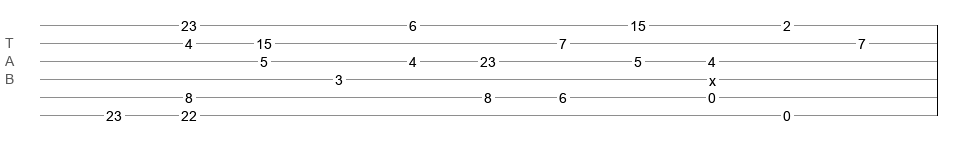0: (708, 90, 716, 100), (783, 108, 791, 118)
15: (256, 36, 272, 46), (630, 18, 646, 28)
2: (783, 18, 791, 28)
22: (181, 108, 197, 118)
23: (106, 108, 122, 118), (181, 18, 197, 28), (480, 54, 496, 64)
3: (335, 72, 343, 82)
4: (185, 36, 193, 46), (409, 54, 417, 64), (708, 54, 716, 64)
5: (260, 54, 268, 64), (634, 54, 642, 64)
6: (409, 18, 417, 28), (559, 90, 567, 100)
7: (559, 36, 567, 46), (858, 36, 866, 46)
8: (185, 90, 193, 100), (484, 90, 492, 100)
x: (709, 73, 716, 81)
